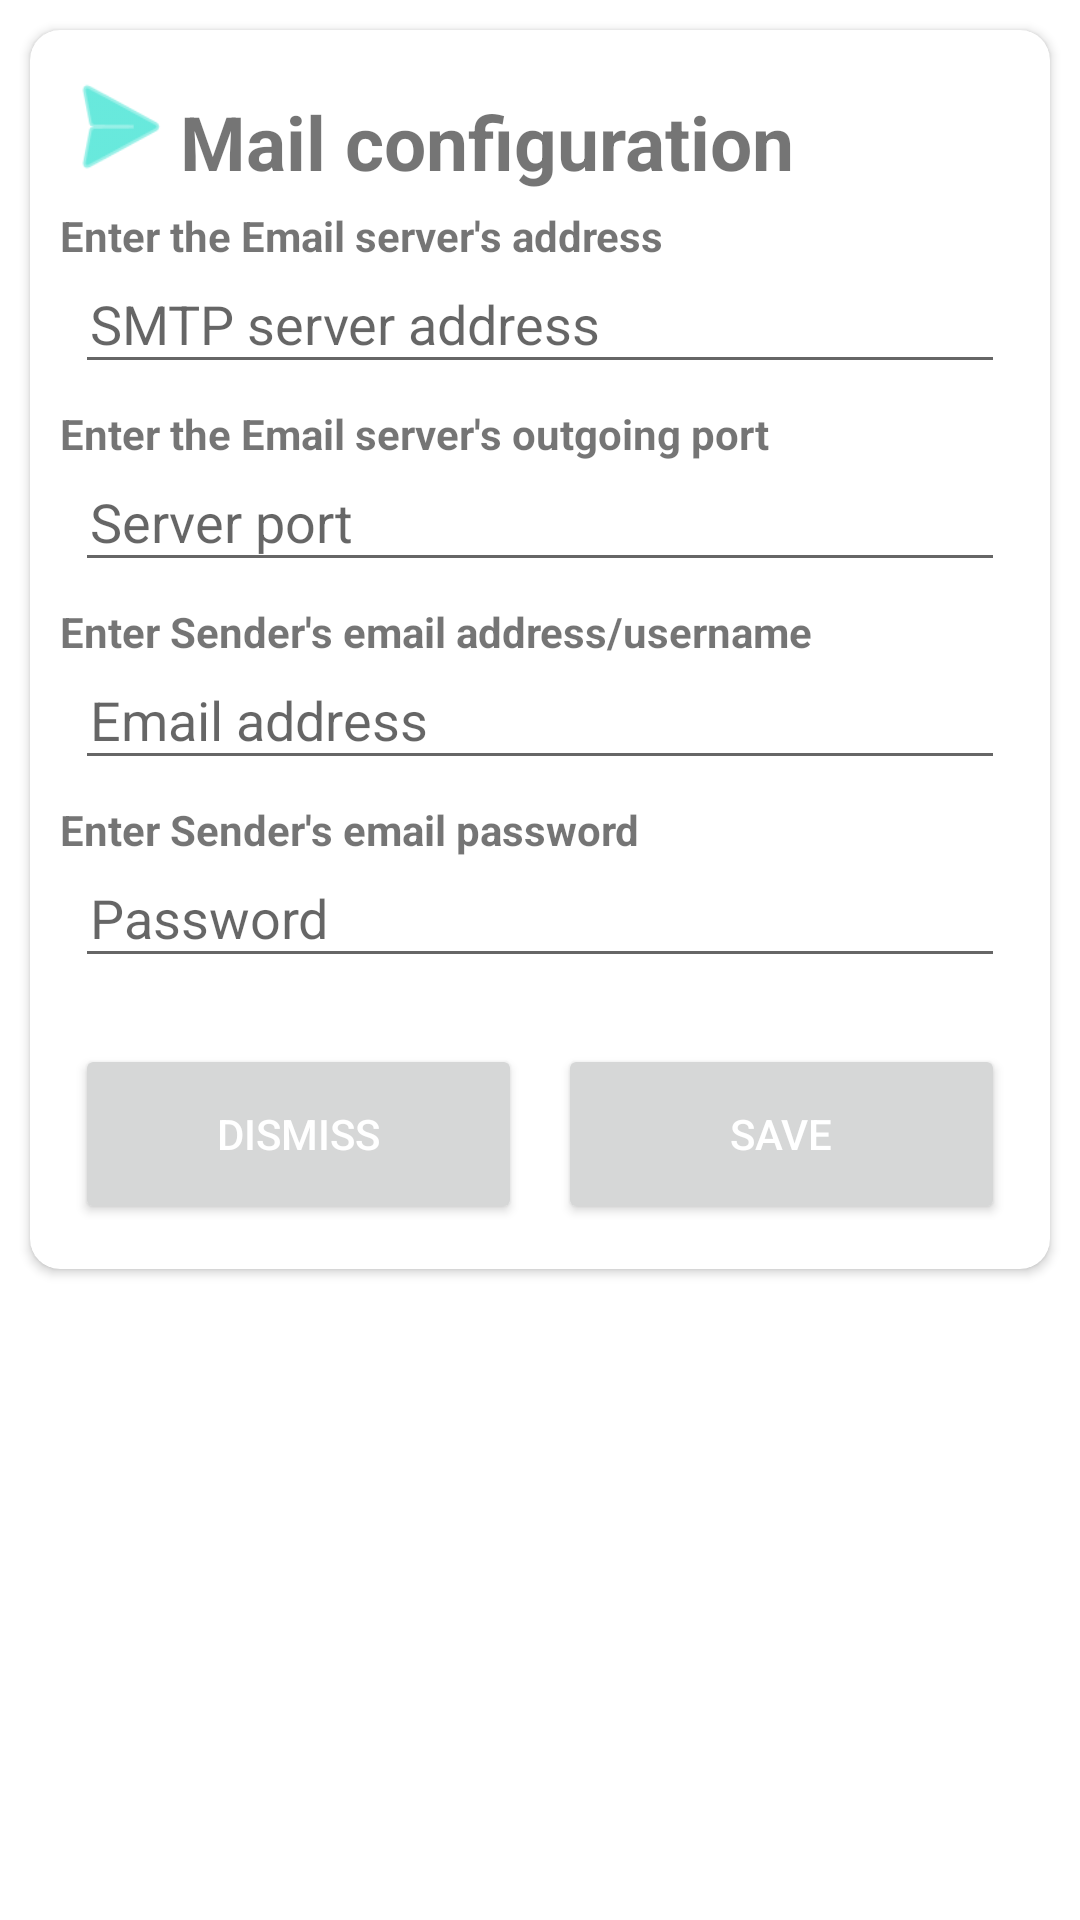

Icons on this 1080 x 1920 Android screen, each with its box as (x1, y1, x2, y2):
send: (82, 85, 160, 169)
